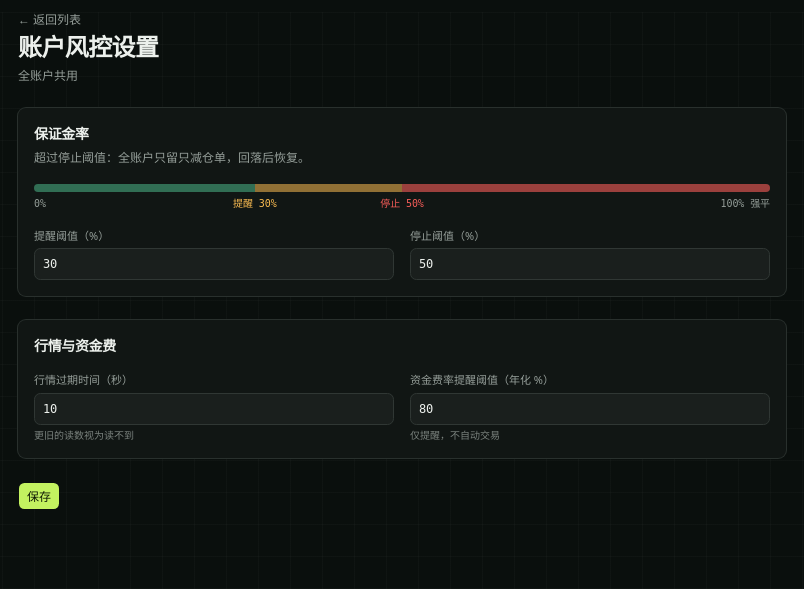
账户风控设置 › 秒数不是整数字符串时不交给服务端
Replace the text in the field showing "10" with "1.0000000000000001" at point(214, 408), box [34,392,394,424]
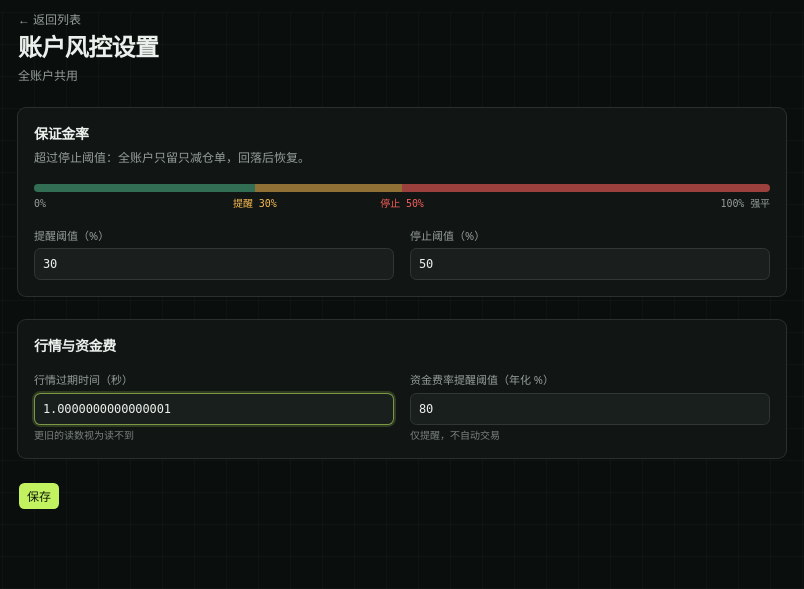
Click the button "保存".
click(39, 496)  # box [18,482,60,510]
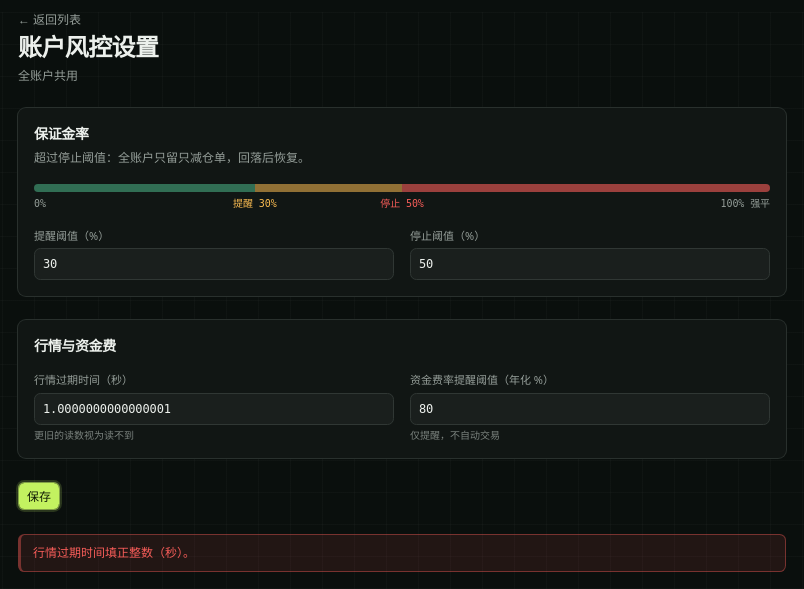
Check: the text "行情过期时间填正整数（秒）。" is shown, box [33,544,195,561]
